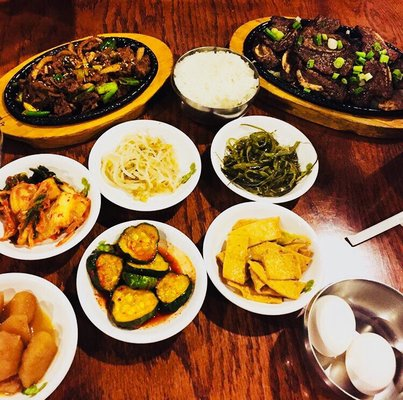sandwich: (344, 208, 403, 247)
sushi: (0, 33, 174, 150), (76, 220, 208, 345), (203, 200, 321, 317), (302, 278, 403, 398), (0, 153, 102, 268), (86, 119, 201, 212), (0, 272, 78, 398), (210, 116, 319, 205), (171, 46, 260, 127)
